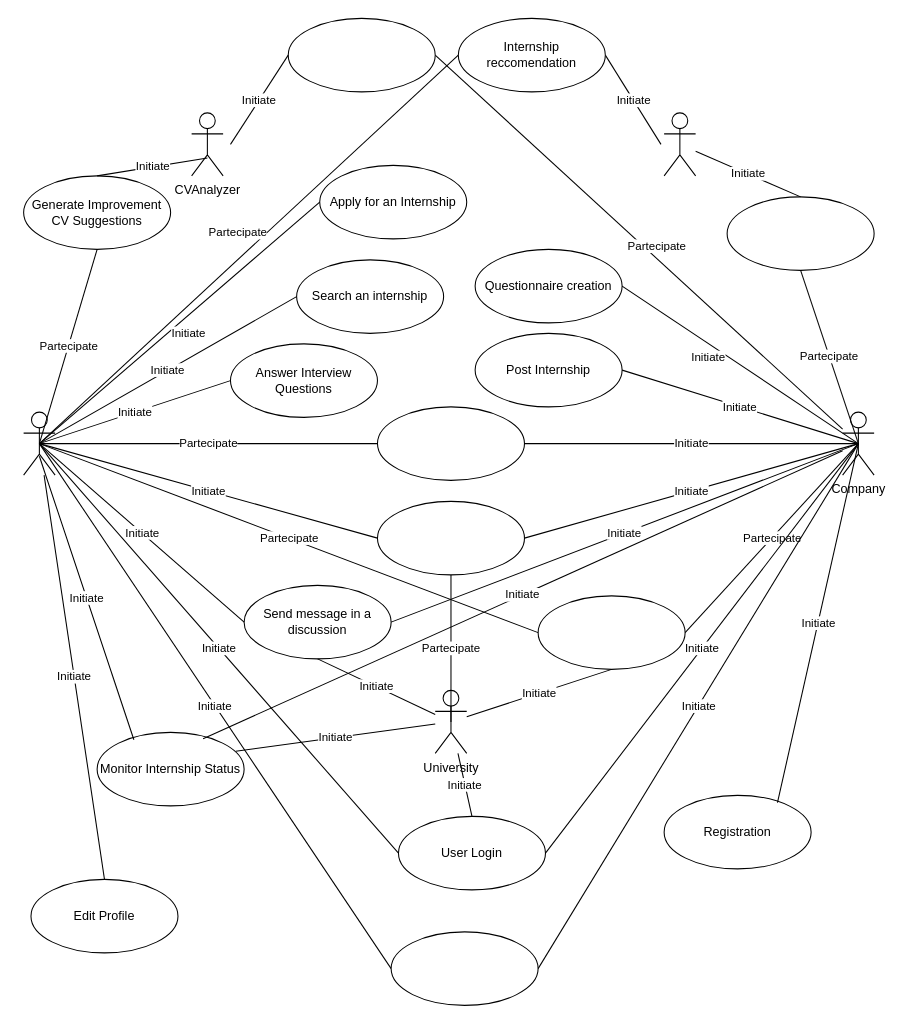
The diagram is 903 pixels wide and 1024 high, and some of its shapes have lost their labels. Here are the shapes that lost their labels. From the top down, the box of each, then its label:
(287, 17, 435, 92): Student reccomendation
(663, 112, 696, 176): InternshipAnalyzer
(726, 196, 874, 270): Generate Improvement Internship suggestions
(23, 411, 55, 475): Student
(376, 406, 524, 480): Sign contract
(376, 500, 524, 575): Open Discussion
(537, 595, 685, 669): Terminate Internship
(390, 931, 538, 1005): Post feedback
